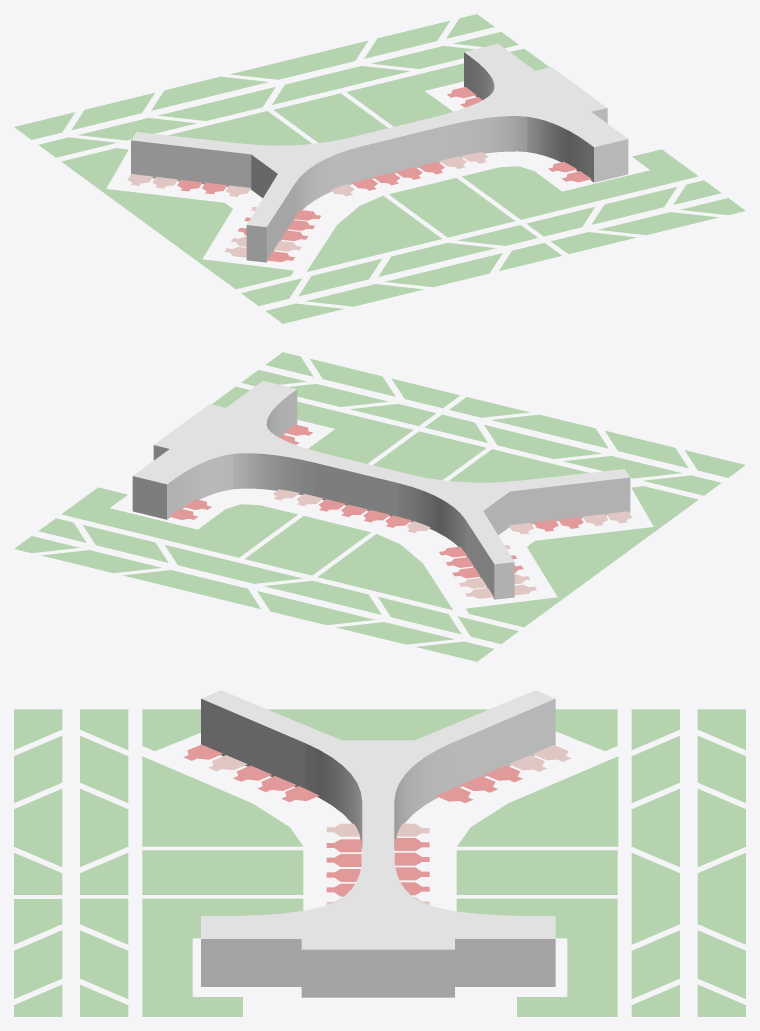
File: Airport.gltf
The picture shows the model from 3 angles, top to bottom: view 1: azimuth 30°, elevation 25°; view 2: azimuth 150°, elevation 25°; view 3: azimuth 270°, elevation 25°; orthographic projection. The views are drawn at different scales.
Parts seen in each view (by area): view 1: Airport-Mat, Airport-Mat.3, Airport-Mat.6, Airport-Mat.7; view 2: Airport-Mat, Airport-Mat.3, Airport-Mat.6, Airport-Mat.7; view 3: Airport-Mat, Airport-Mat.3, Airport-Mat.6, Airport-Mat.7.
Part boxes in pixels (left/top/right/bottom): Airport-Mat: left=14, top=14, right=745, bottom=323; Airport-Mat.3: left=131, top=43, right=628, bottom=262; Airport-Mat.6: left=177, top=87, right=591, bottom=261; Airport-Mat.7: left=127, top=152, right=488, bottom=257; Airport-Mat: left=14, top=352, right=745, bottom=661; Airport-Mat.3: left=132, top=381, right=630, bottom=599; Airport-Mat.6: left=169, top=424, right=583, bottom=578; Airport-Mat.7: left=273, top=489, right=631, bottom=598; Airport-Mat: left=14, top=709, right=745, bottom=1016; Airport-Mat.3: left=201, top=690, right=555, bottom=997; Airport-Mat.6: left=183, top=744, right=522, bottom=896; Airport-Mat.7: left=208, top=745, right=570, bottom=904.
Bounding box in the file's own units: 26.7 × 1.95 × 26.87.
